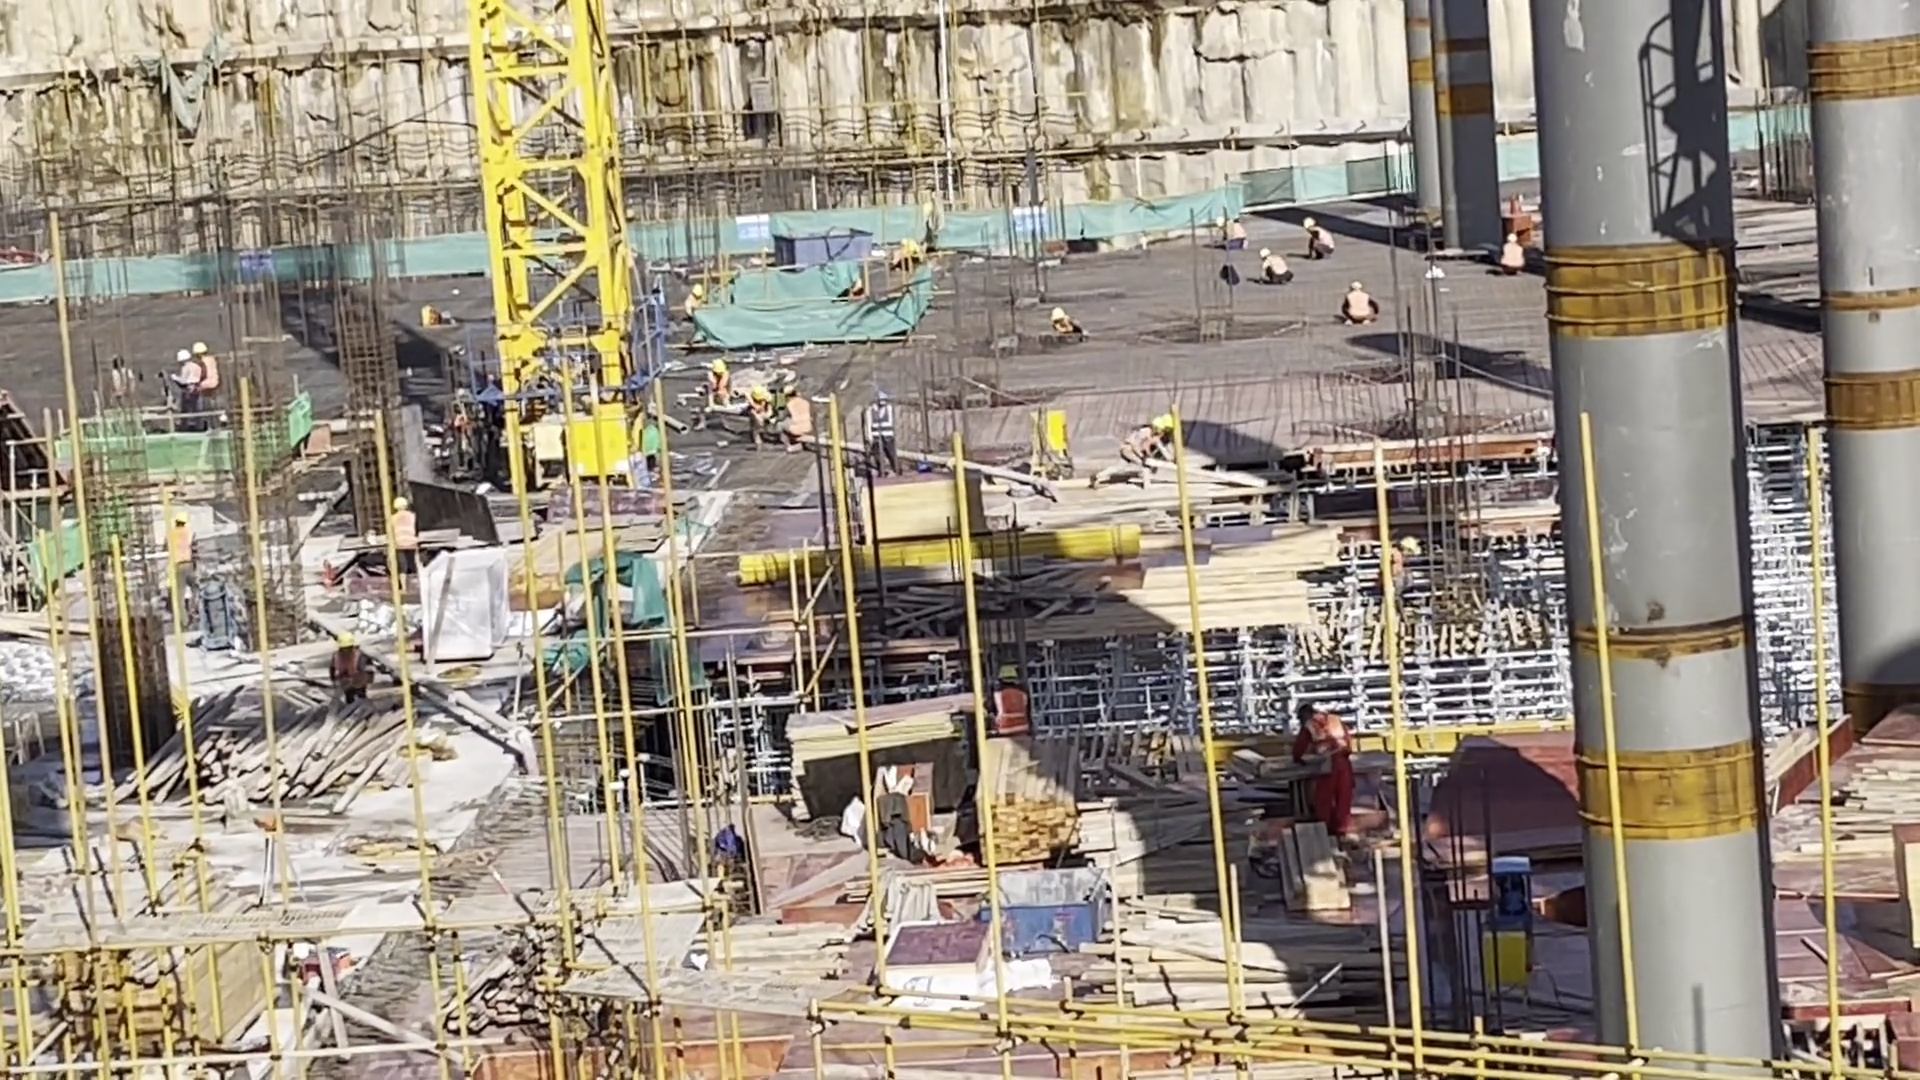helmet: (710, 359, 733, 384), (385, 488, 409, 509), (753, 383, 774, 406), (185, 336, 209, 358), (996, 666, 1020, 684), (171, 504, 190, 528), (870, 384, 890, 403), (1145, 414, 1162, 435), (1498, 230, 1518, 246), (1048, 305, 1064, 325), (175, 349, 192, 366), (1159, 413, 1175, 431), (334, 634, 355, 648), (1259, 248, 1276, 262), (780, 382, 795, 400), (1344, 277, 1359, 292), (1301, 217, 1316, 230), (1218, 216, 1229, 226)
hopper: (982, 874, 1096, 946)
person: (1289, 703, 1357, 841), (1100, 412, 1175, 484), (167, 516, 212, 621), (983, 654, 1035, 744), (860, 387, 902, 488), (388, 498, 424, 588), (326, 631, 376, 698), (166, 348, 203, 436), (699, 359, 734, 416), (1340, 278, 1382, 326), (1041, 304, 1086, 345), (193, 335, 221, 400), (1297, 217, 1333, 261), (740, 390, 771, 439), (1256, 247, 1294, 282), (1494, 234, 1529, 273), (1210, 217, 1246, 249), (678, 285, 711, 314)
vest: (167, 531, 202, 587), (1301, 721, 1343, 766), (993, 689, 1025, 732), (332, 650, 364, 688), (868, 409, 893, 444), (788, 399, 811, 430), (391, 514, 411, 544), (1347, 292, 1370, 316), (1499, 245, 1522, 268), (1269, 258, 1287, 279), (1316, 226, 1332, 248)
wood: (1096, 874, 1375, 1027), (137, 700, 428, 824), (955, 757, 1111, 887)
